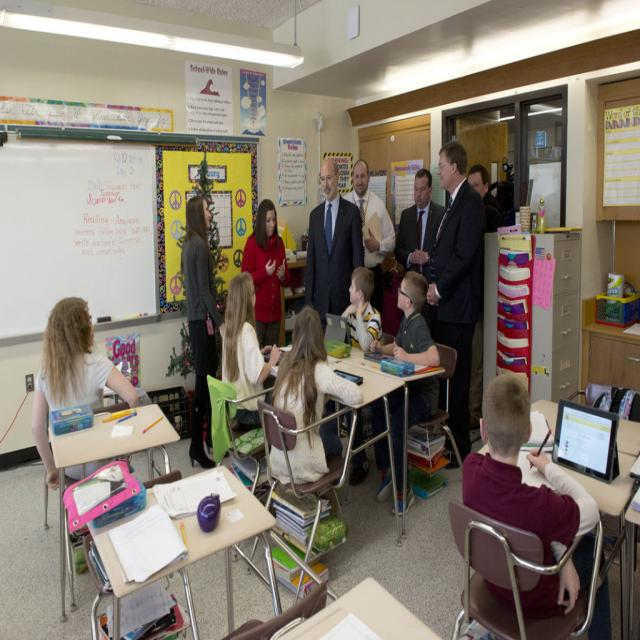chair: (449, 500, 602, 637), (258, 399, 351, 559), (408, 342, 463, 469), (207, 374, 266, 490)
desk: (275, 578, 444, 639)
laptop: (552, 396, 621, 484)
person: (461, 371, 601, 620), (31, 295, 145, 496), (366, 269, 442, 532), (423, 140, 485, 448), (269, 306, 361, 498), (182, 196, 225, 467), (222, 270, 282, 435), (304, 158, 364, 322), (344, 158, 396, 317), (241, 198, 289, 353), (394, 169, 446, 279), (341, 265, 382, 351)
